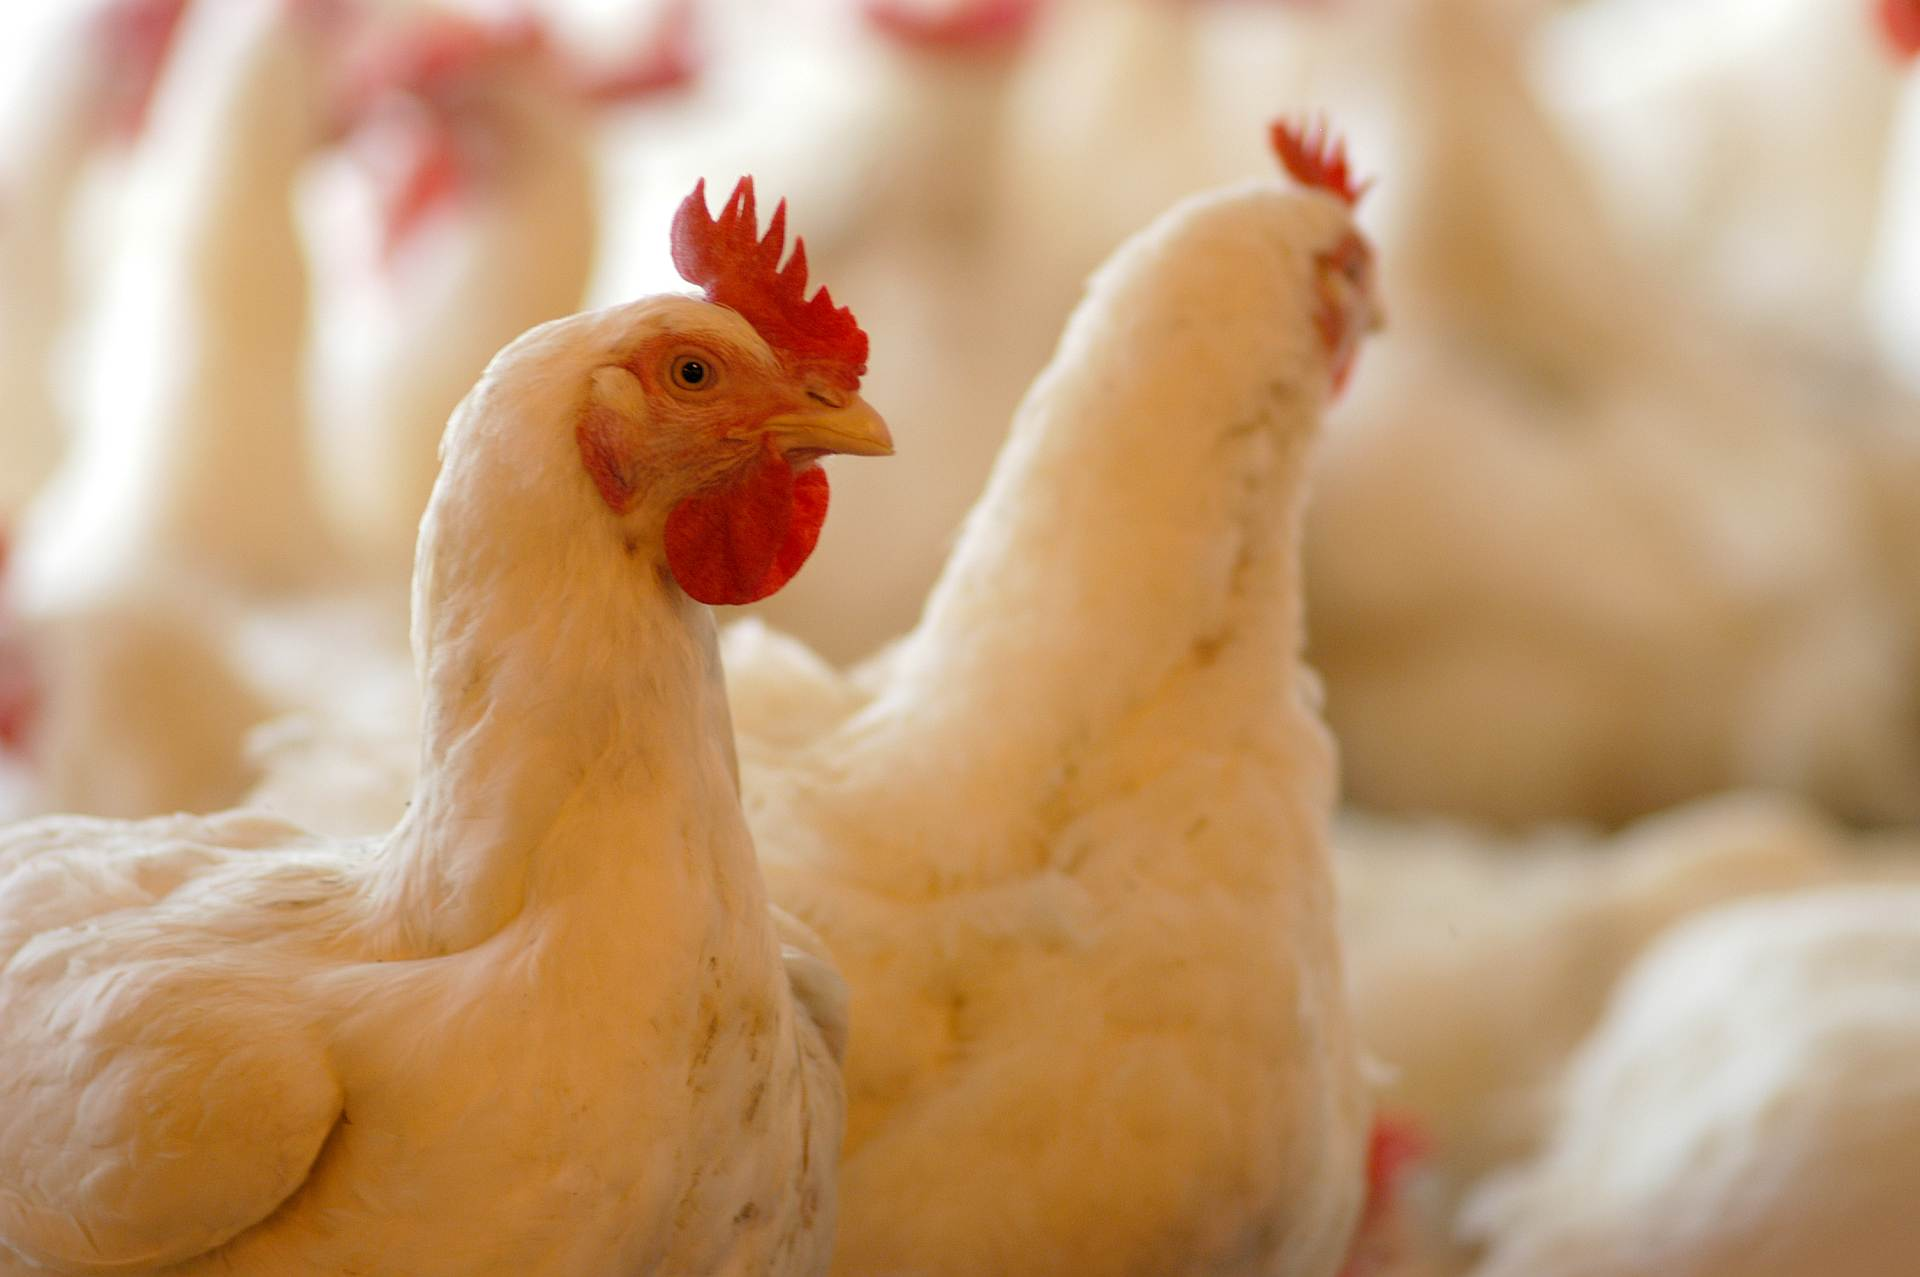Healthy: (7, 165, 911, 1223)
